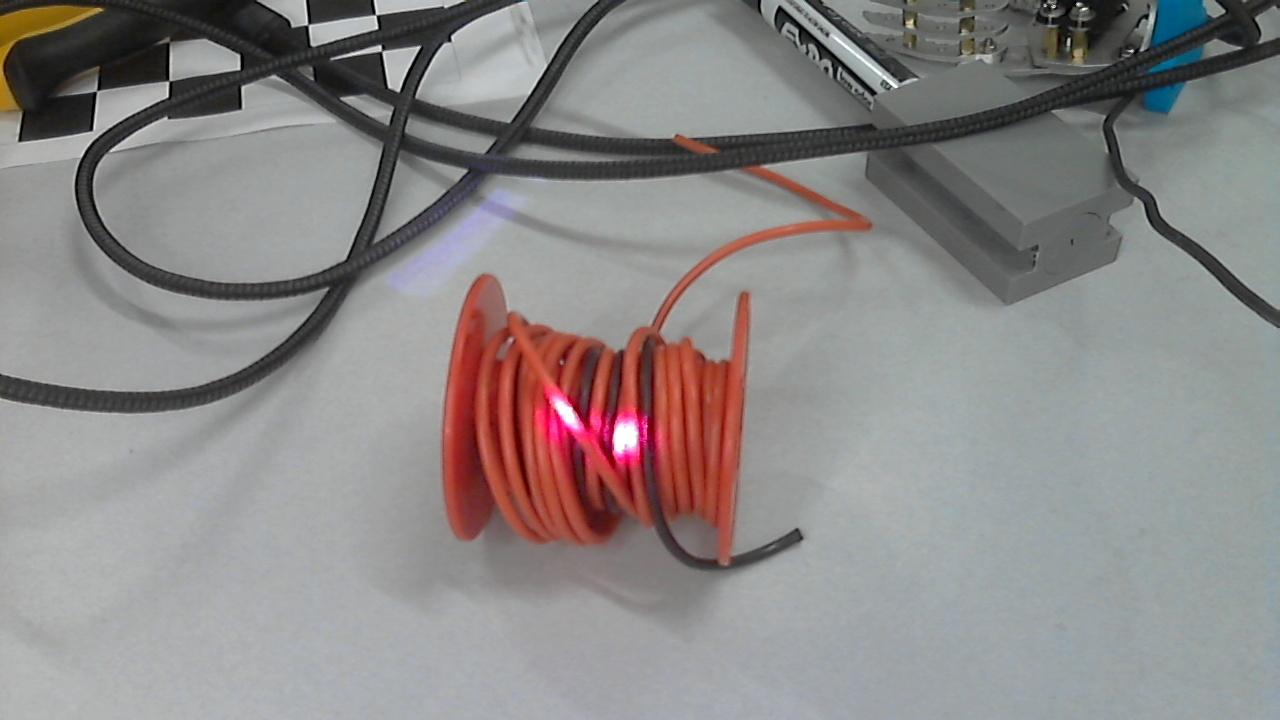Object wire spool - Material rubber - Color oranges - Pdfname ZryFz3DBSiO8: (537, 378, 659, 472)
